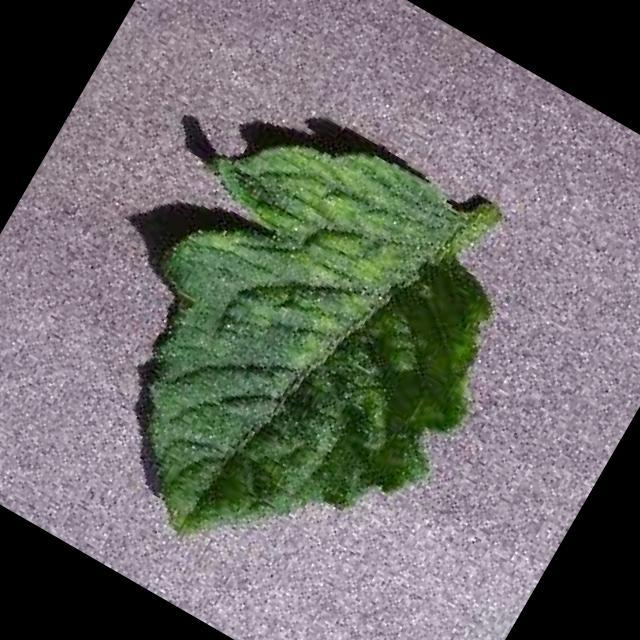Tomato mosaic virus leaf: (40, 82, 556, 631)
